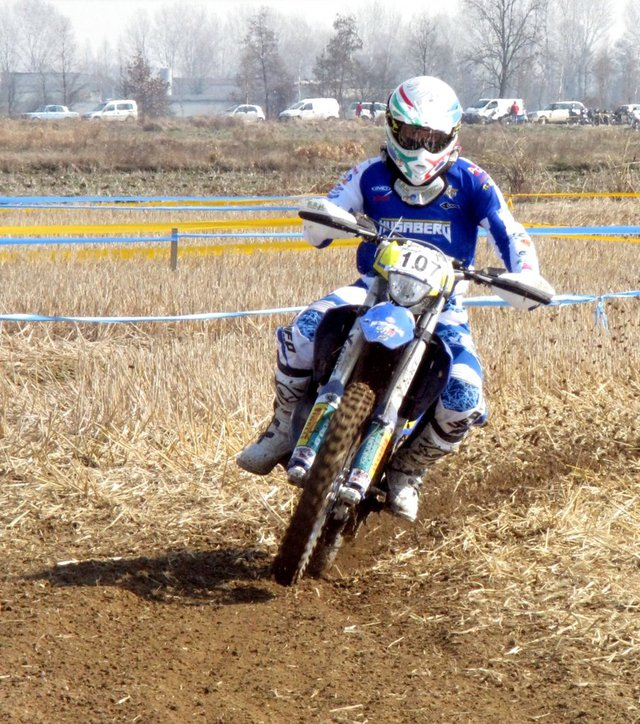helmet: (373, 77, 470, 178)
